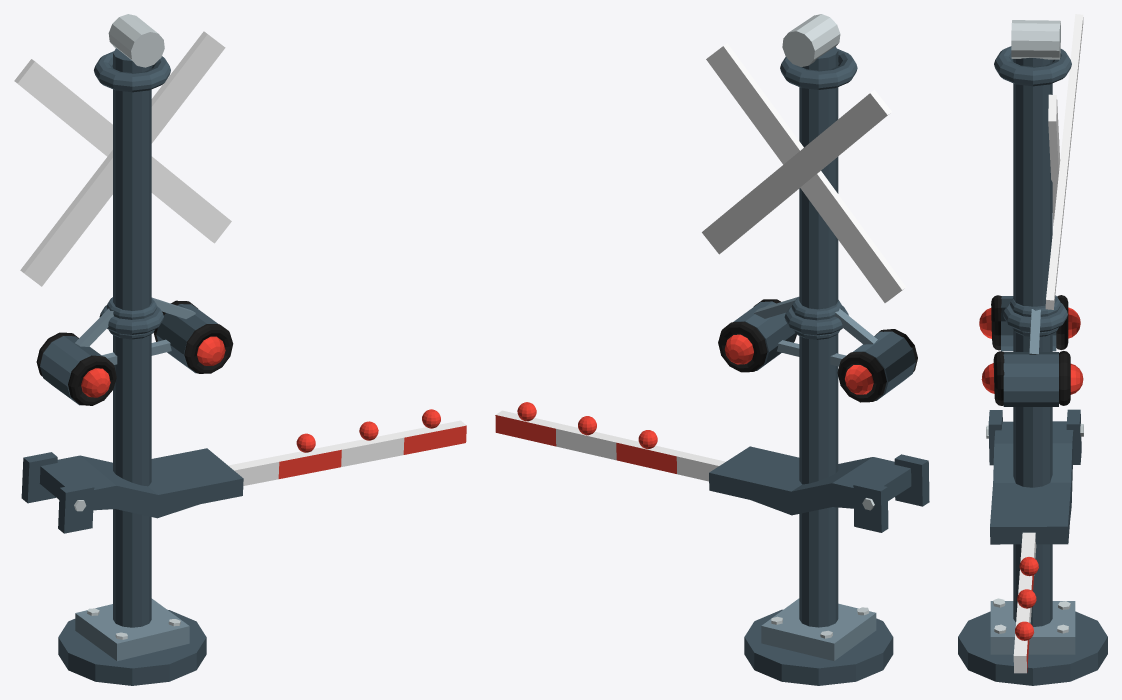
Rendered from scene_d7N1xwzvIK.glb.
3 renders of one model, left to right at view 1: azimuth 30°, elevation 25°; view 2: azimuth 150°, elevation 25°; view 3: azimuth 270°, elevation 25°, orthographic.
Parts seen in each view (by area): view 1: group106280964, group411581995; view 2: group106280964, group411581995; view 3: group106280964, group411581995.
Boxes of the visible parts, box(x1,y1,x2,y2) form: group106280964: box(14, 14, 233, 685); group411581995: box(21, 409, 466, 533); group106280964: box(702, 14, 917, 685); group411581995: box(495, 402, 929, 532); group106280964: box(958, 14, 1107, 685); group411581995: box(986, 409, 1083, 673).
Size of the model in its own units: 0.7579 by 1.08 by 0.23.
